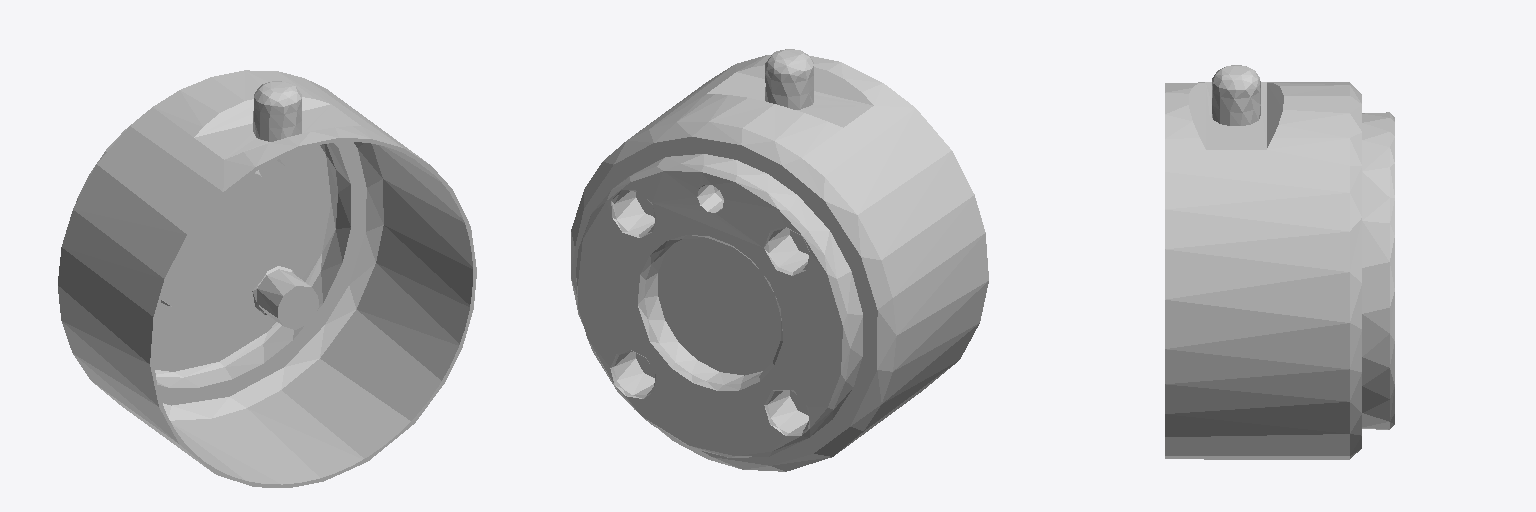
File: wrist_3_link_visuals_wrist3_mesh.obj
3 views of the same model, side by side, from view 1: azimuth 30°, elevation 25°; view 2: azimuth 150°, elevation 25°; view 3: azimuth 270°, elevation 25° (orthographic).
Bounding box in the file's own units: 0.0751 × 0.0816 × 0.0458.